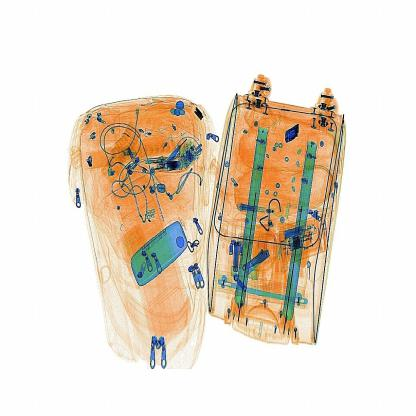knife: (283, 118, 302, 140)
